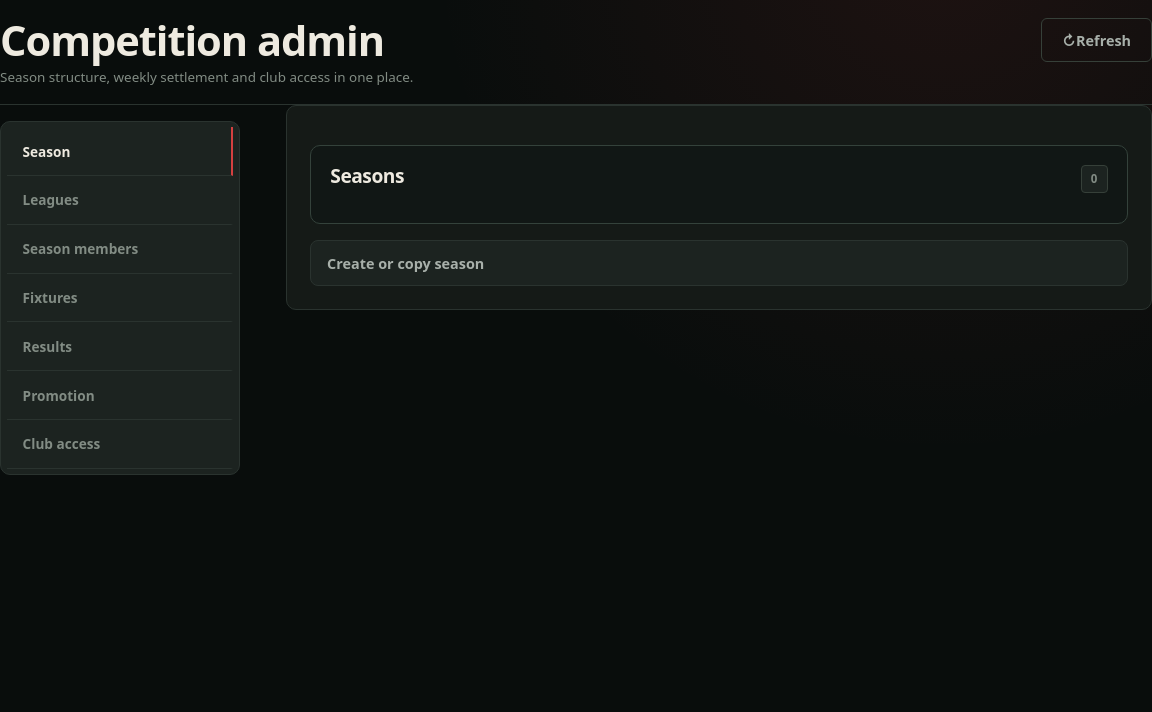
Test: admin scoring rules › explains that an odd Best-of format has no draw
Click the tab "Leagues" at [120, 200], box 7,176 -> 233,225
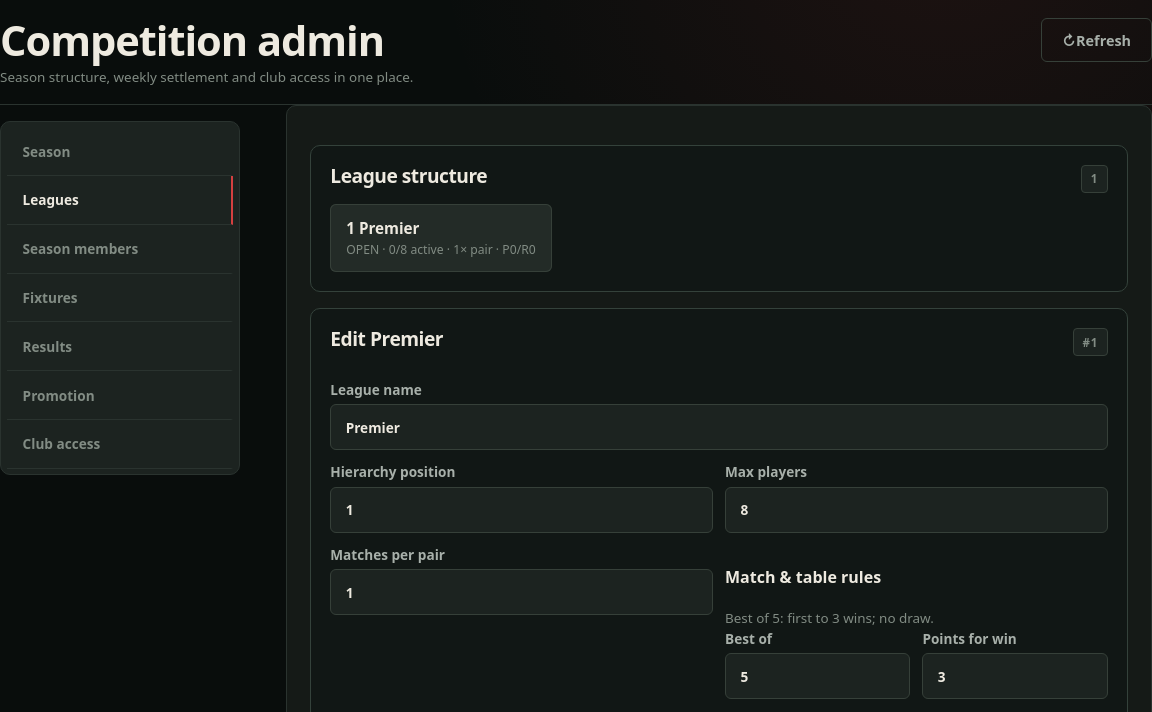
Expected: the list named "Ordered league structure" is shown, 330,204 -> 552,272
Expected: the text "Best of 5: first to 3 wins; no draw." is shown, 725,609 -> 934,627
